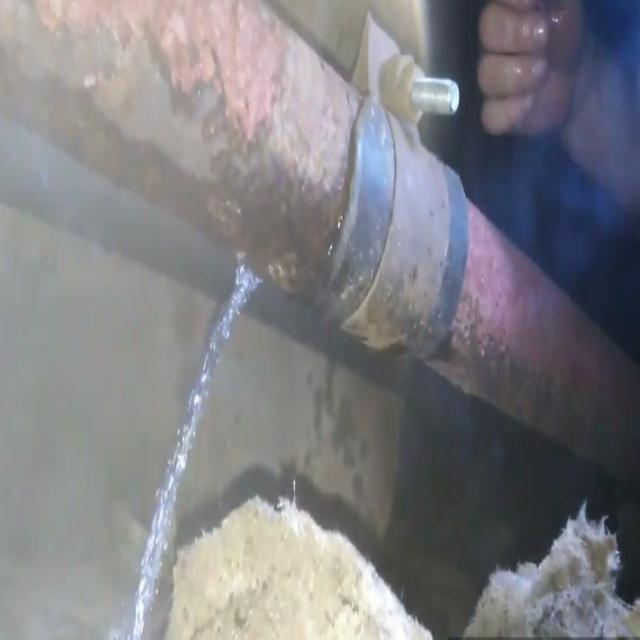leak: (132, 254, 260, 637)
